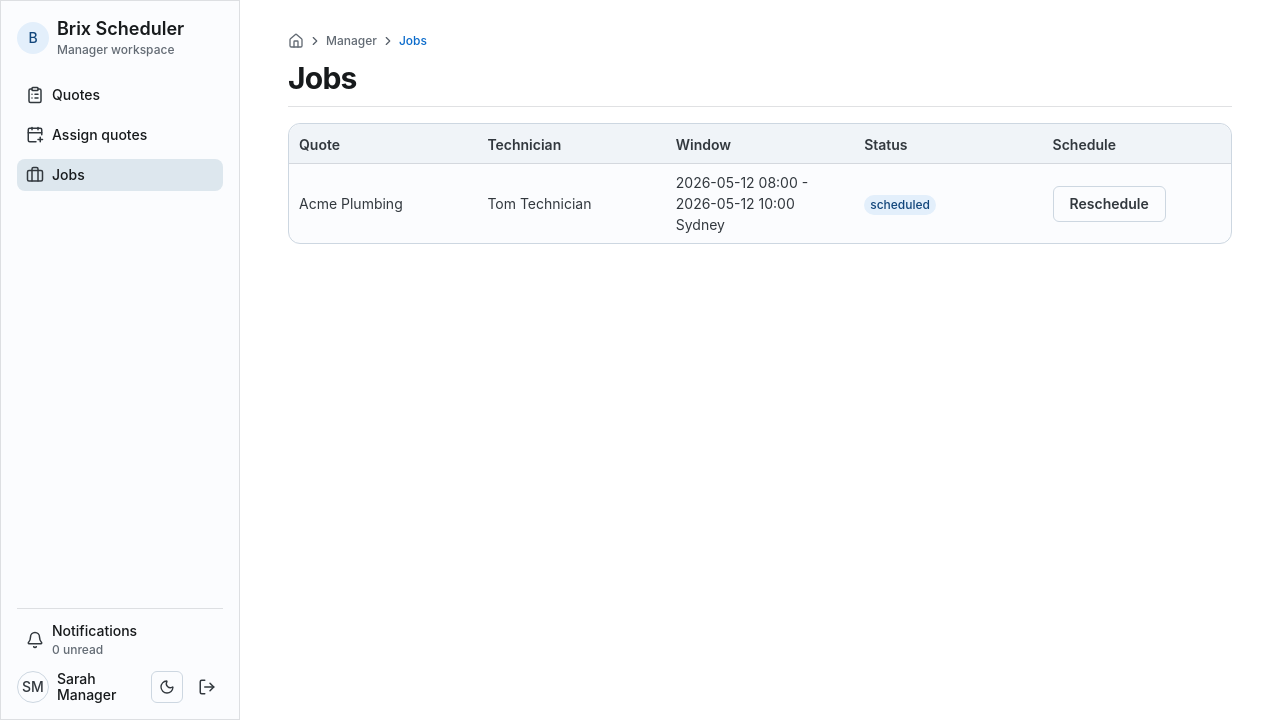
manager dashboard › Reschedule opens a dialog instead of rendering inline row controls
Click the button with aria-label "reschedule acme plumbing": (1109, 204) [1053,186,1166,222]
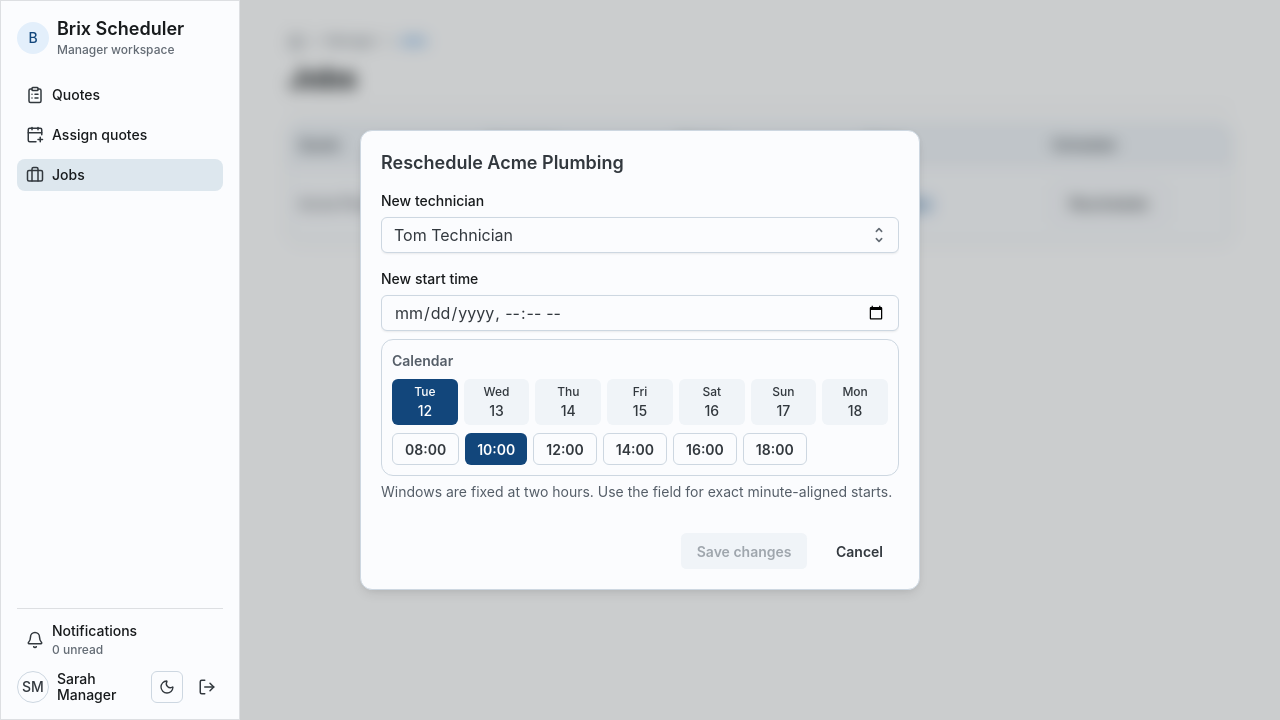
Expected: the dialog "Reschedule Acme Plumbing" is shown, [360,130,920,590]
Expected: the dropdown named "New technician" reads "Tom Technician", [394,221,861,249]
Expected: the button "Save changes" is disabled, [681,533,807,569]
